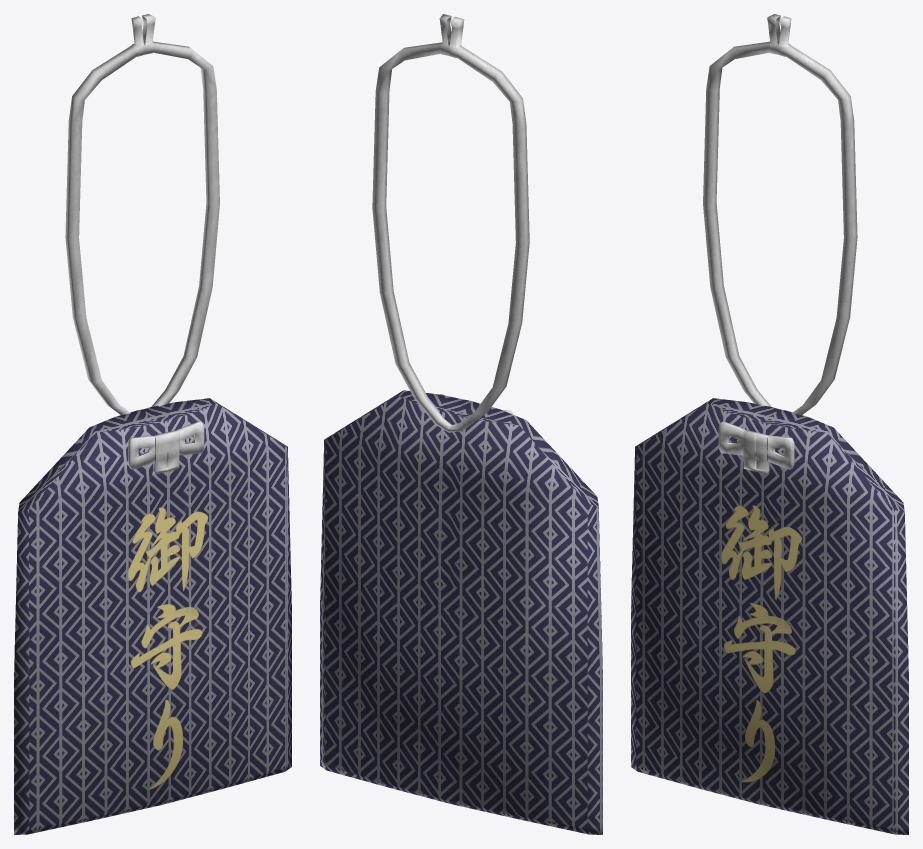
File: お守り.fbx
The picture shows the model from 3 angles, left to right: view 1: azimuth 30°, elevation 25°; view 2: azimuth 150°, elevation 25°; view 3: azimuth 330°, elevation 25°; orthographic projection.
Visible parts, largest first — view 1: 平面; view 2: 平面; view 3: 平面.
Part boxes in pixels (x1,y1,x2,y2): 平面: (14,14,291,834); 平面: (320,14,602,834); 平面: (631,14,908,834).
Bounding box in the file's own units: 216 × 578 × 37.43.
